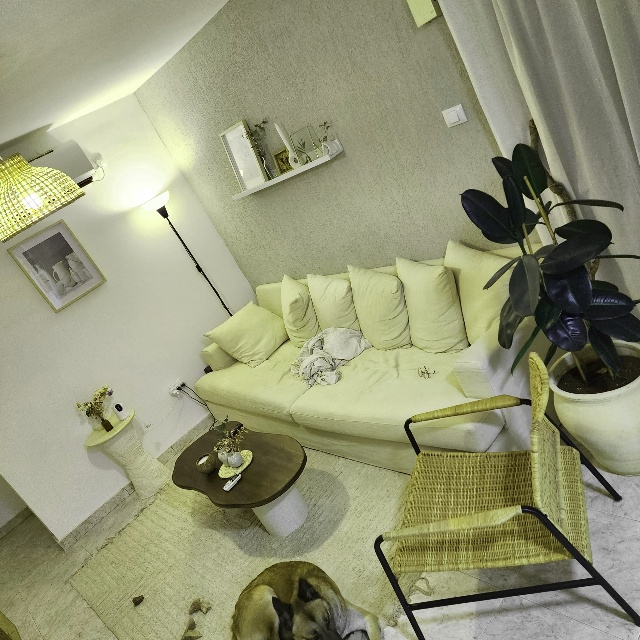glasses: (414, 361, 440, 382)
